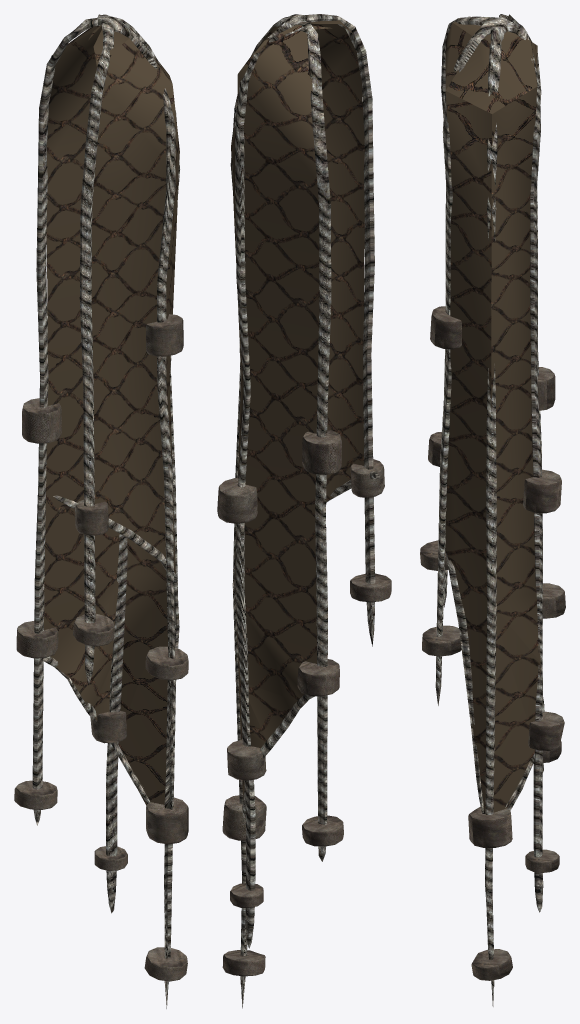
Rendered from fishnet_hanging.obj.
3 renders of one model, left to right at view 1: azimuth 30°, elevation 25°; view 2: azimuth 150°, elevation 25°; view 3: azimuth 270°, elevation 25°, orthographic. The views are drawn at different scales.
Parts seen in each view (by area): view 1: fishnet_hanging; view 2: fishnet_hanging; view 3: fishnet_hanging.
Boxes of the visible parts, bbox=[...] form: fishnet_hanging: bbox=[14, 14, 188, 1008]; fishnet_hanging: bbox=[217, 14, 391, 1008]; fishnet_hanging: bbox=[420, 14, 565, 1006].
Size of the model in its own units: 12.6 by 84.41 by 11.59.
